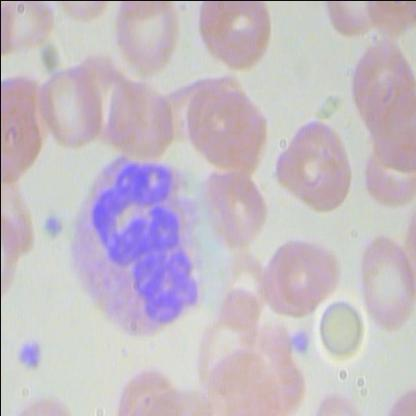Platelets: (42, 210, 67, 244), (16, 335, 41, 369), (289, 327, 309, 356)
WBC: (66, 146, 216, 338)
